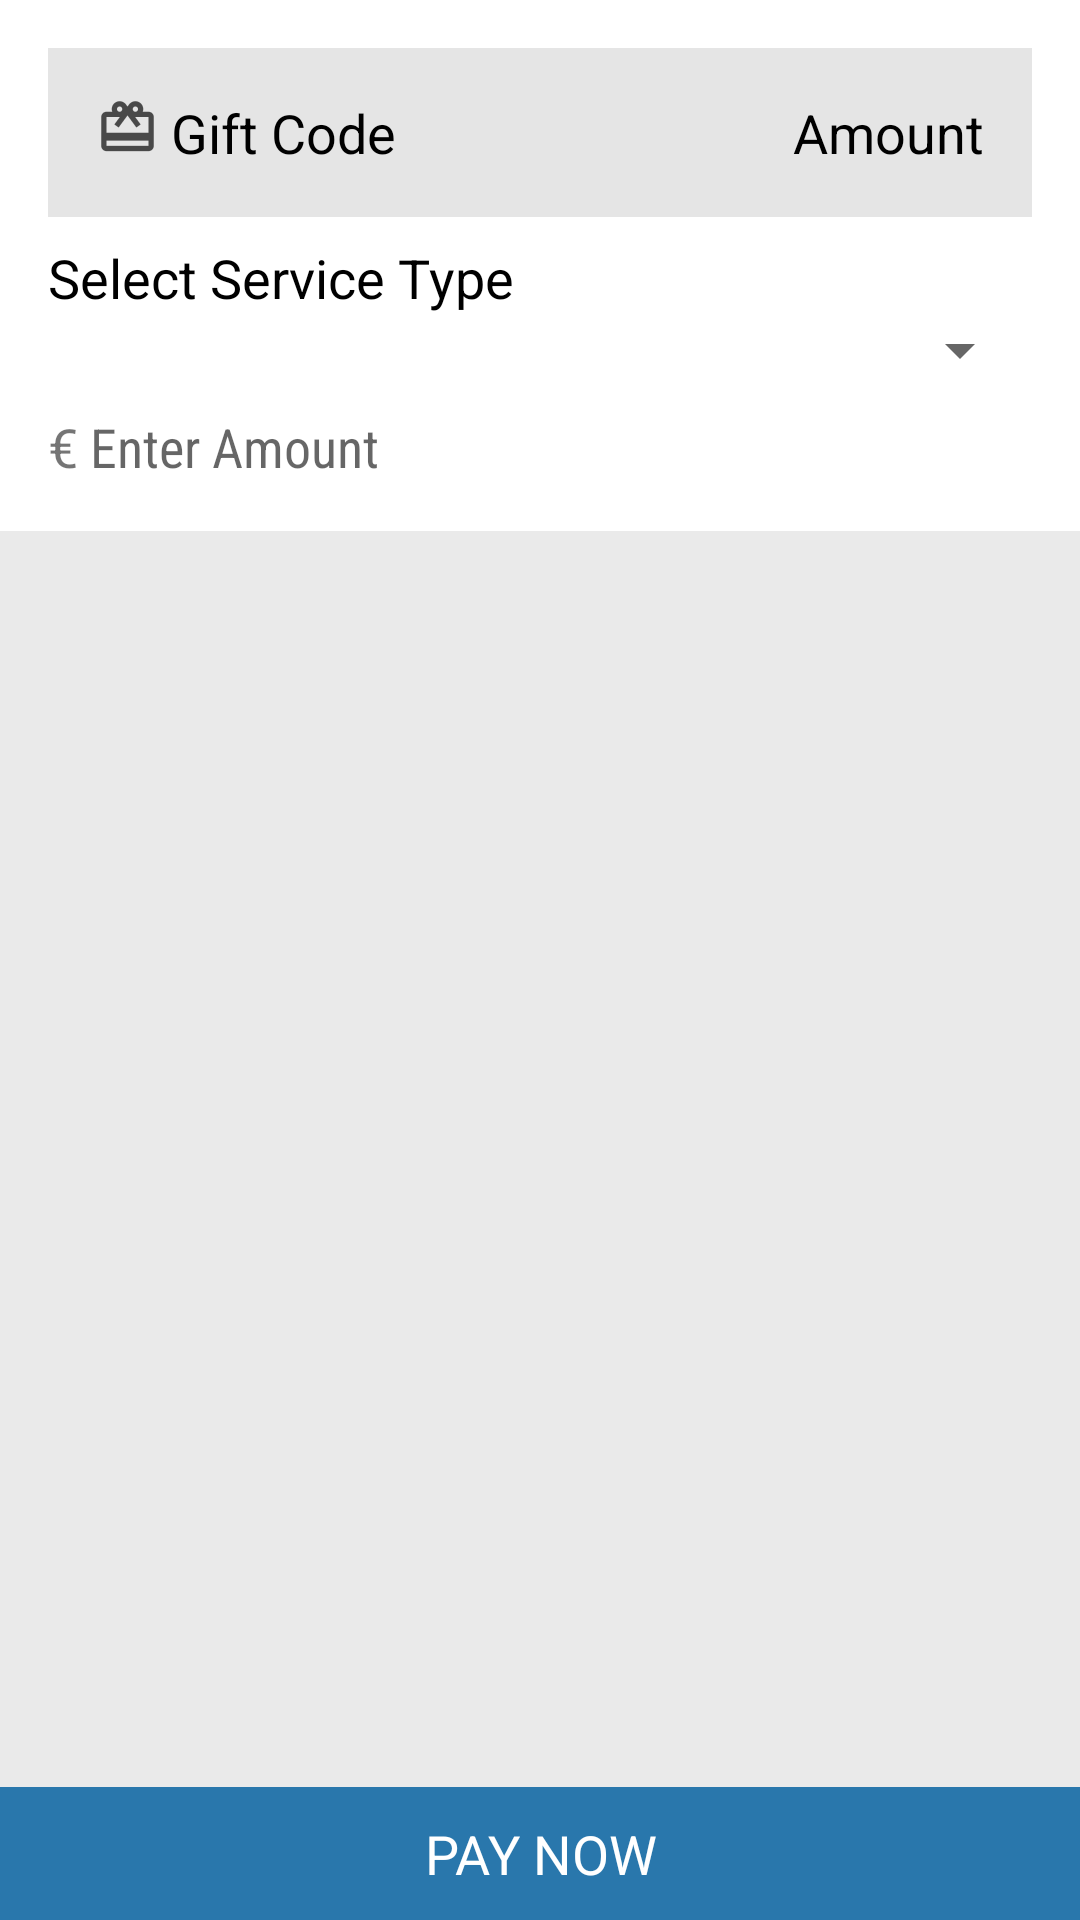

Icons on this 1080w x 1920h Android screen, each with its box as (x1, y1, x2, y2):
giftcard: (101, 101, 154, 152)
